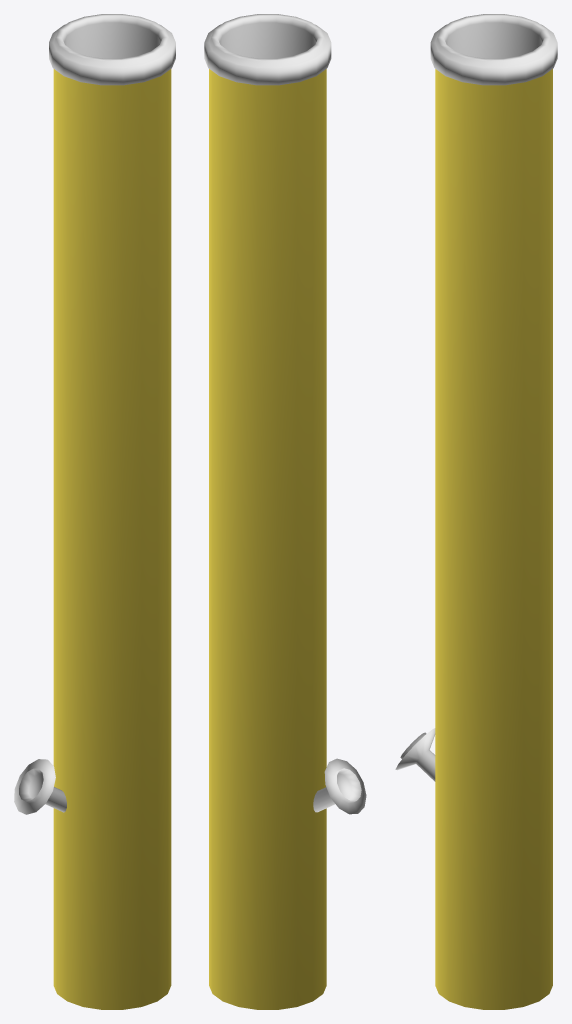
File: dieucay.fbx
3 renders of one model, left to right at view 1: azimuth 30°, elevation 25°; view 2: azimuth 150°, elevation 25°; view 3: azimuth 330°, elevation 25°, orthographic.
Parts seen in each view (by area): view 1: Cylinder; view 2: Cylinder; view 3: Cylinder.
Part boxes in pixels (x1,y1,x2,y2): Cylinder: [14, 14, 175, 1009]; Cylinder: [204, 14, 366, 1009]; Cylinder: [395, 14, 557, 1009].
Bounding box in the file's own units: 287 × 1777 × 215.
